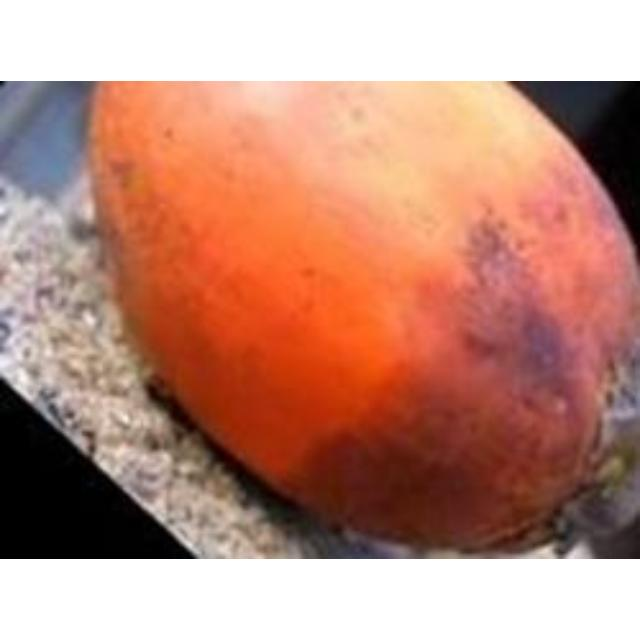good: (84, 81, 637, 557)
